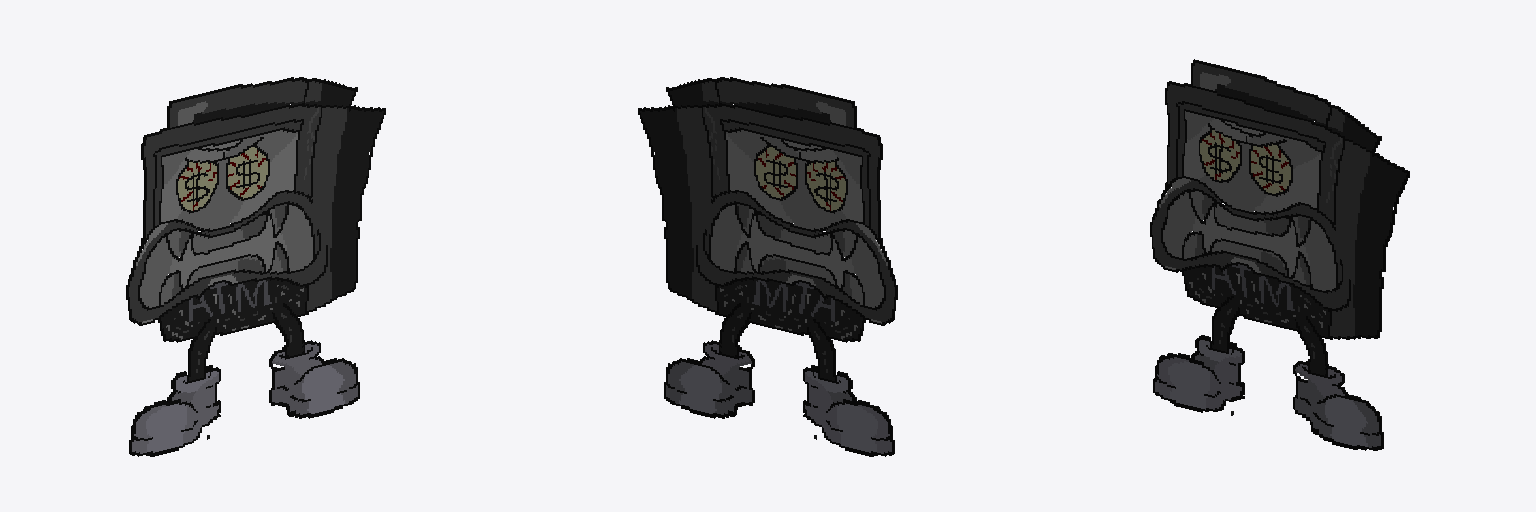
3 renders of one model, left to right at view 1: azimuth 30°, elevation 25°; view 2: azimuth 150°, elevation 25°; view 3: azimuth 330°, elevation 25°, orthographic.
Visible parts, largest first — view 1: object 1; view 2: object 1; view 3: object 1.
Boxes of the visible parts, x1,y1,x2,y2 form: object 1: [126, 77, 385, 456]; object 1: [638, 77, 897, 456]; object 1: [1150, 59, 1409, 450].
Bounding box in the file's own units: 13.8 × 17.8 × 0.1.
Materials: 1 (1 with a texture image).